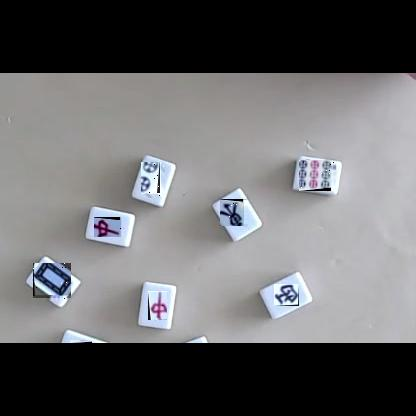1z: (221, 199, 248, 226)
2p: (142, 163, 165, 198)
3z: (274, 284, 299, 306), (70, 340, 92, 343)
5z: (33, 264, 71, 301)
7z: (95, 217, 125, 237), (148, 291, 167, 320)
9p: (300, 160, 336, 191)
